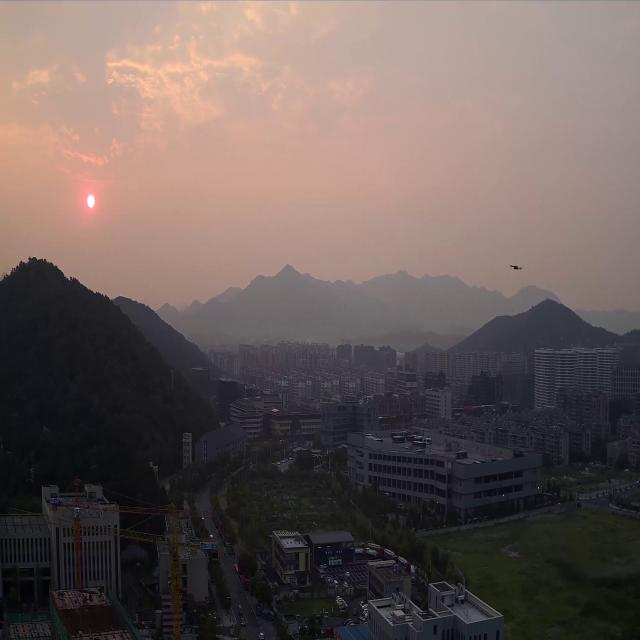drone: (508, 264, 524, 271)
